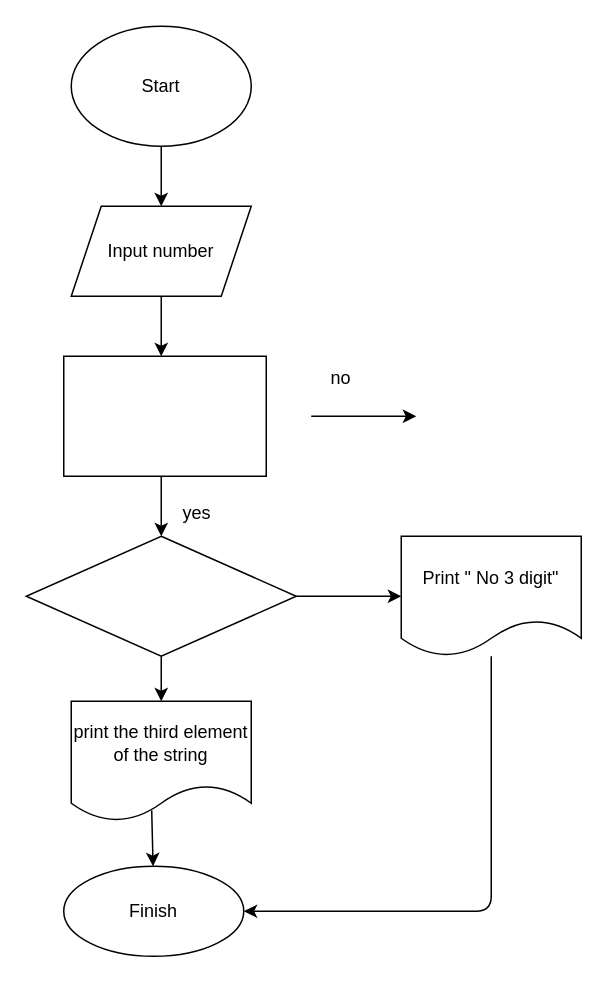
Some shapes in this 608 by 983 pixel diagram are drawn without their labels. Each missing label, with the box of its shape:
Convert Number to String: (62, 355, 266, 476)
The length of the string <3: (25, 535, 296, 656)
